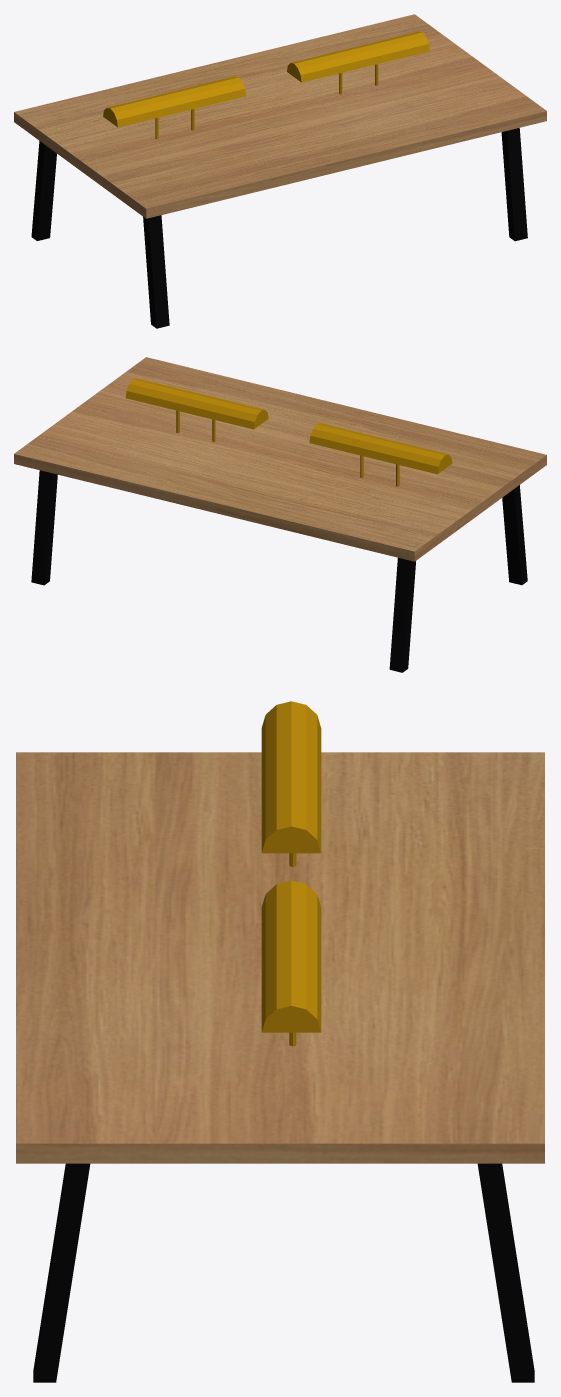
File: cafetable_big.fbx
The picture shows the model from 3 angles, top to bottom: view 1: azimuth 30°, elevation 25°; view 2: azimuth 150°, elevation 25°; view 3: azimuth 270°, elevation 25°; orthographic projection. The views are drawn at different scales.
Parts seen in each view (by area): view 1: pCube27; view 2: pCube27; view 3: pCube27.
Part boxes in pixels (x1,y1,x2,y2): pCube27: (14, 14, 546, 328); pCube27: (14, 357, 546, 672); pCube27: (16, 701, 544, 1382).
Bounding box in the file's own units: 0.0175 × 0.00703 × 0.01.
Materials: 2 (1 with a texture image).
